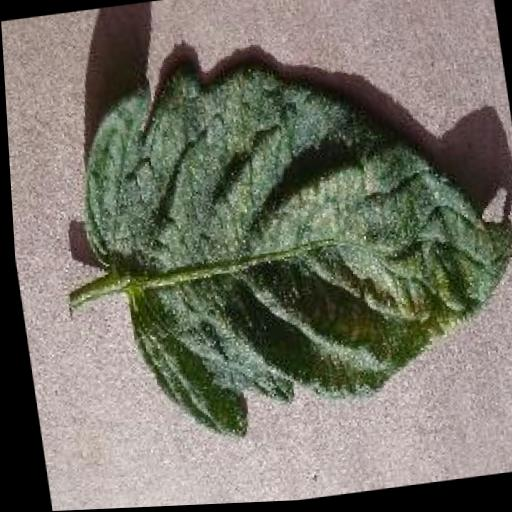Spider Mites: (62, 37, 512, 453)
